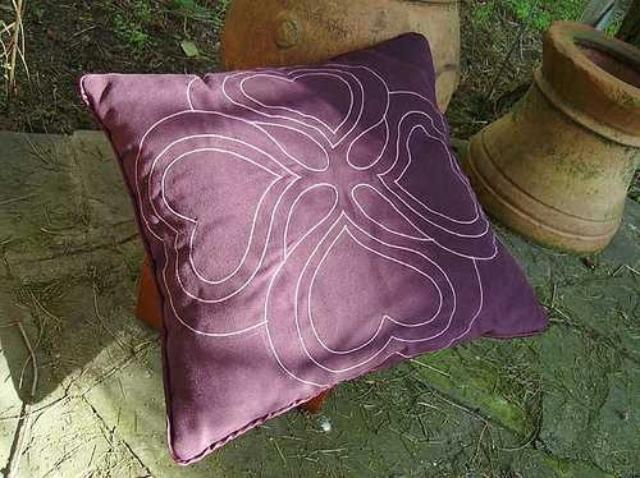pillow: (76, 30, 550, 466)
